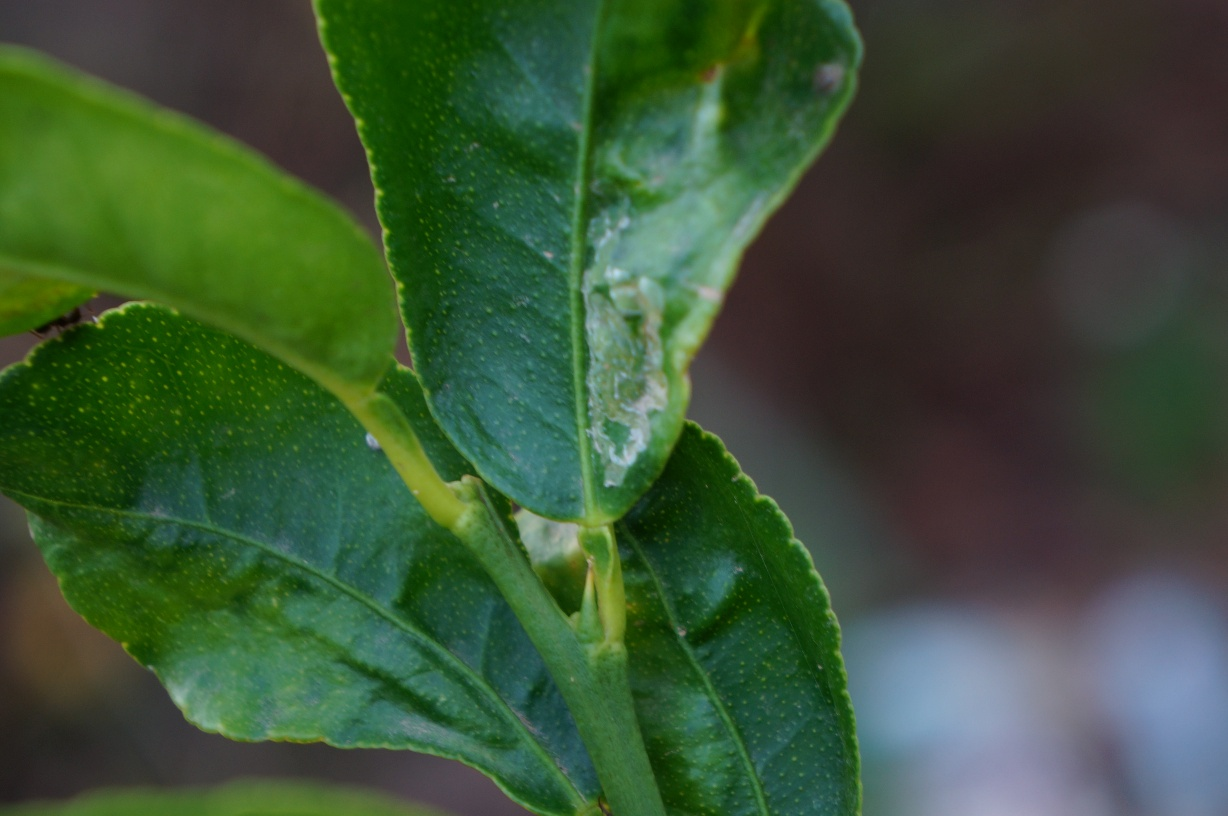damage: (585, 237, 690, 498)
